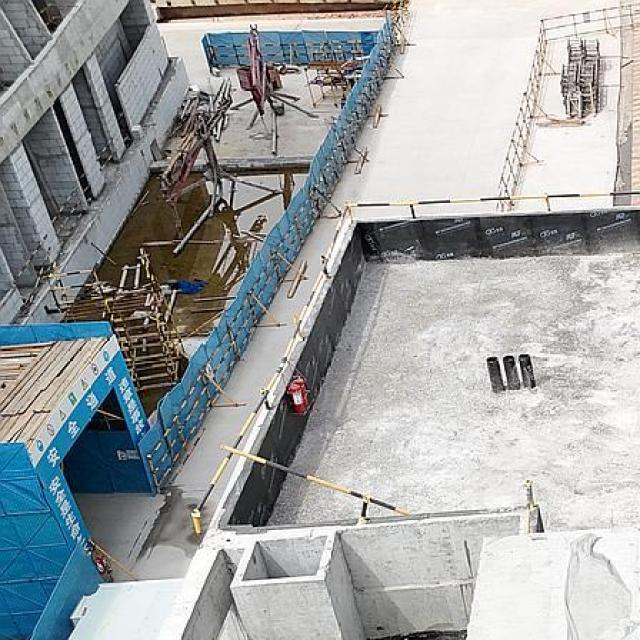edge_guardrail: (187, 188, 640, 536), (217, 443, 413, 541), (12, 229, 48, 302), (52, 190, 84, 243), (79, 168, 94, 205), (96, 142, 114, 171), (39, 7, 47, 16)
